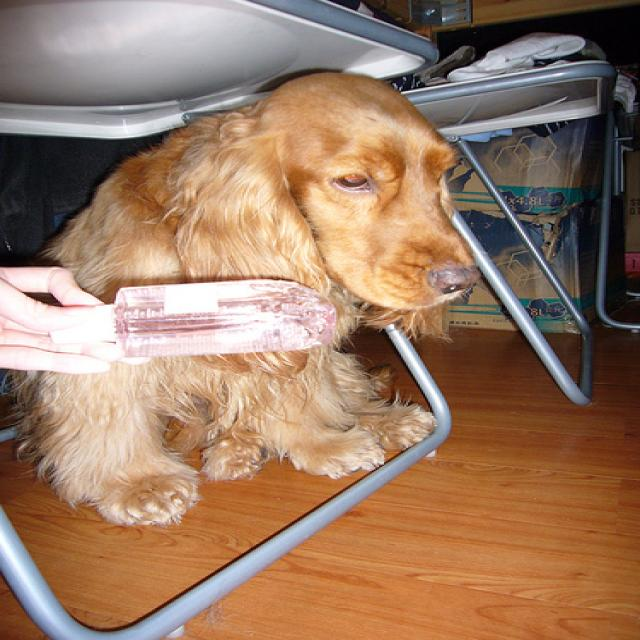dog-english_cocker_spaniel: (39, 61, 476, 325)
